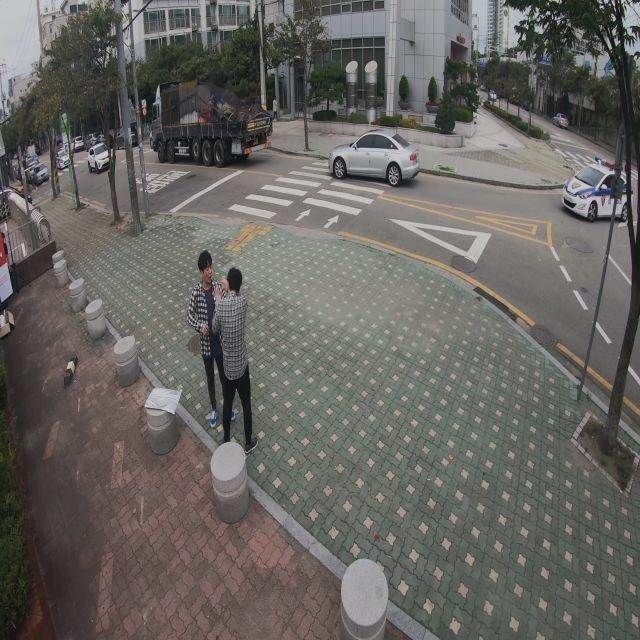fight: (187, 252, 260, 452)
